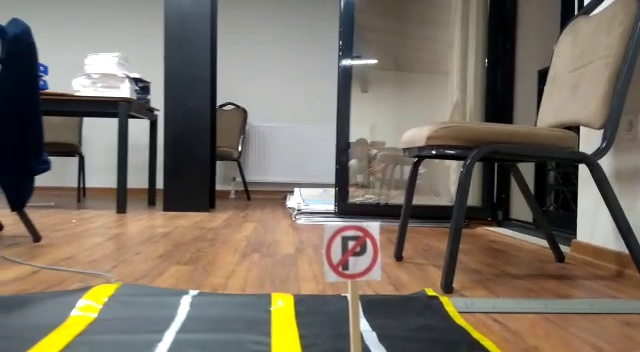park_yapilmaz: (323, 217, 380, 282)
